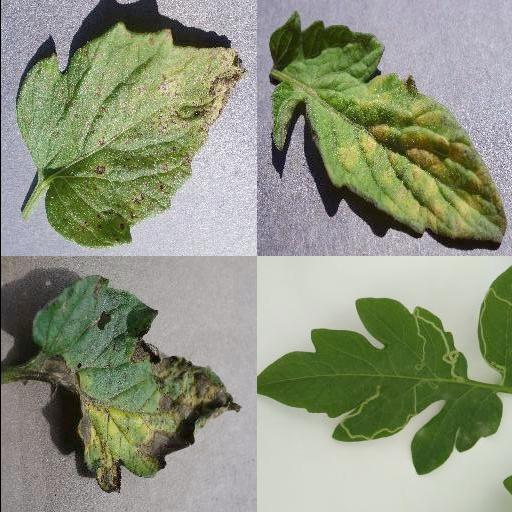Early Blight: (31, 279, 243, 494)
Leaf Miner: (256, 298, 502, 477)
Leaf Mold: (266, 10, 508, 242)
Septoria: (13, 23, 247, 247)
